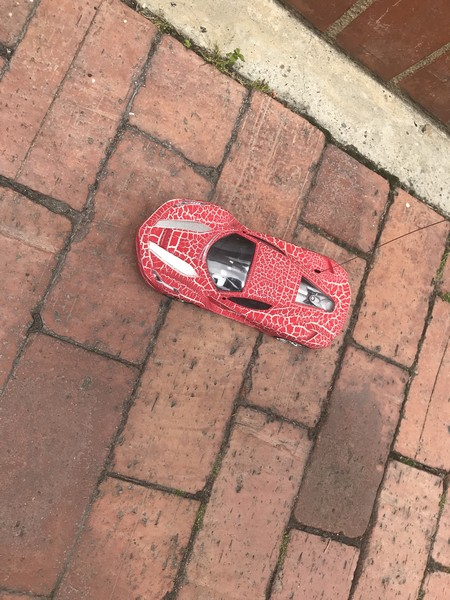RC: (130, 197, 353, 351)
